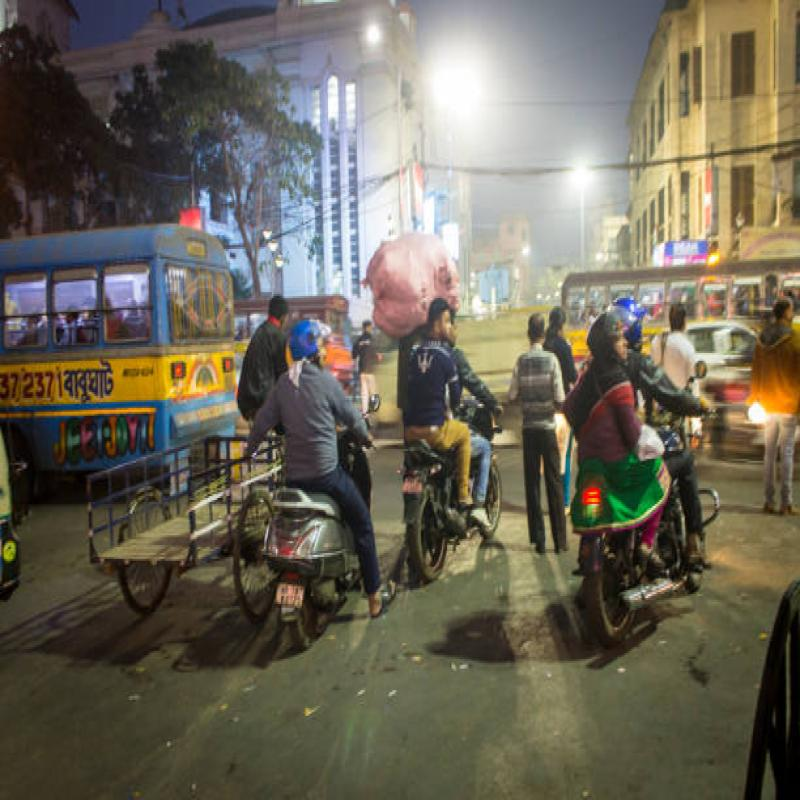bike: (561, 436, 724, 634), (282, 469, 370, 648), (398, 428, 510, 560)
bus: (0, 192, 226, 512)
